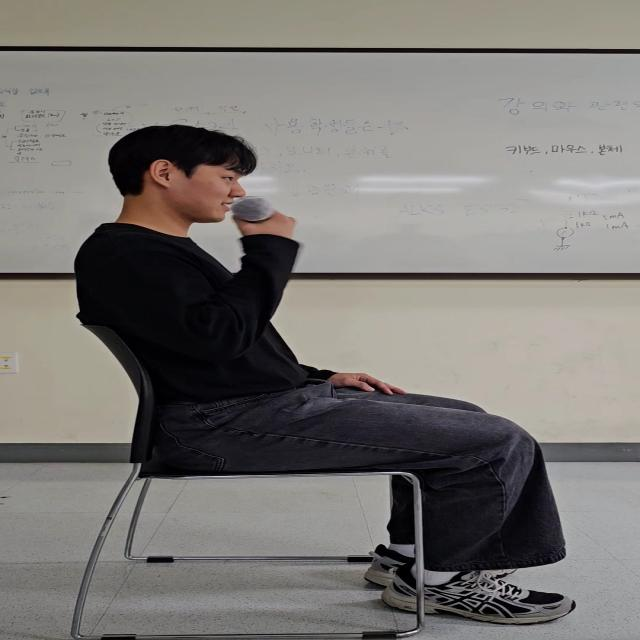curl: (221, 228, 274, 346)
